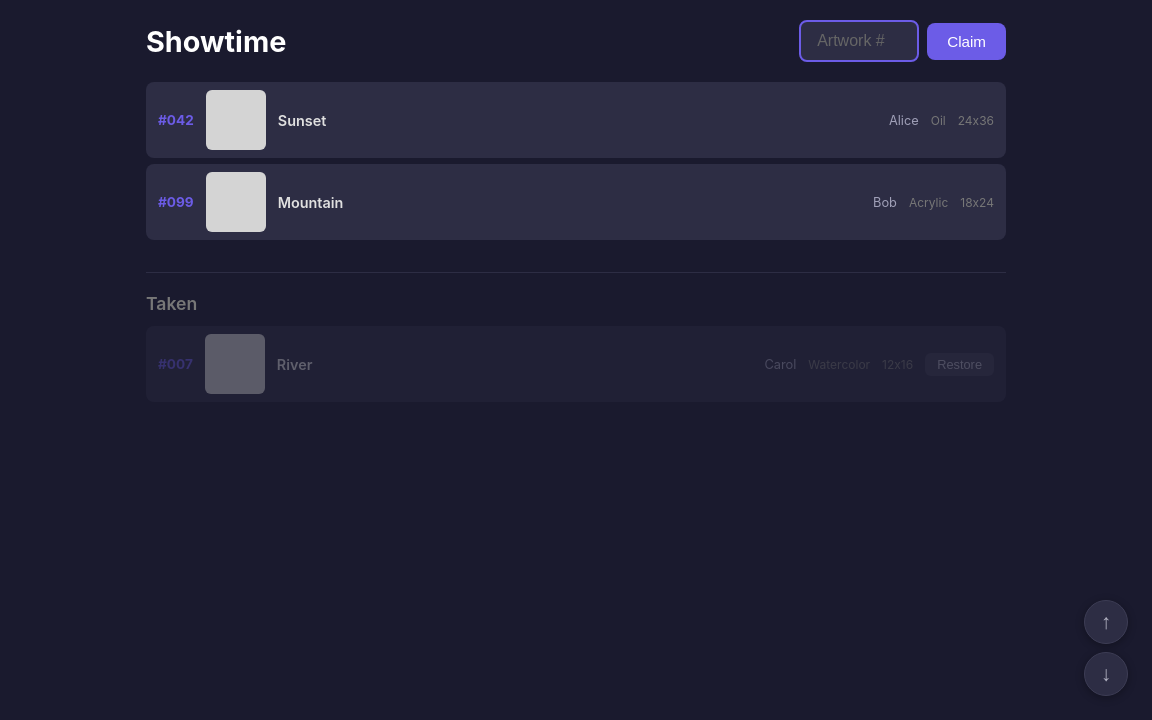
Test: ShowtimePage › shows error for non-existent artwork number
The width and height of the screenshot is (1152, 720).
Type "999" into the field with placeholder "Artwork #" at {"x": 859, "y": 41}, box x1=799 y1=20 x2=919 y2=62
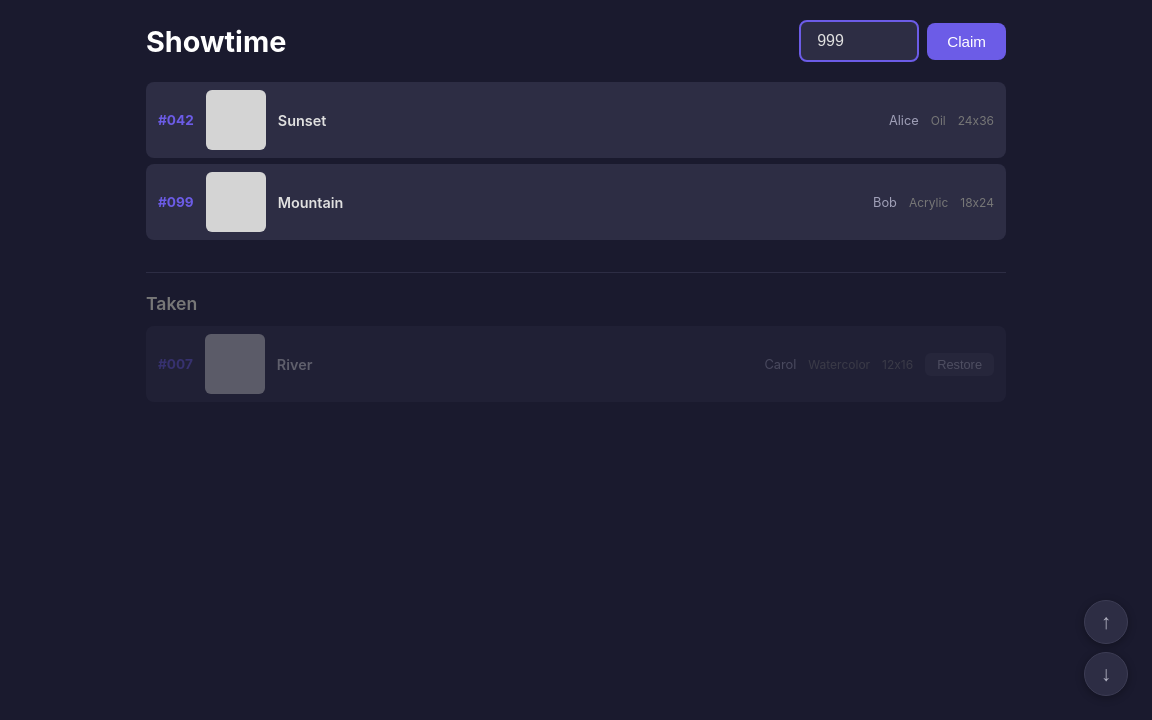
Click the button "Claim" at {"x": 967, "y": 41}, box x1=927 y1=22 x2=1006 y2=60
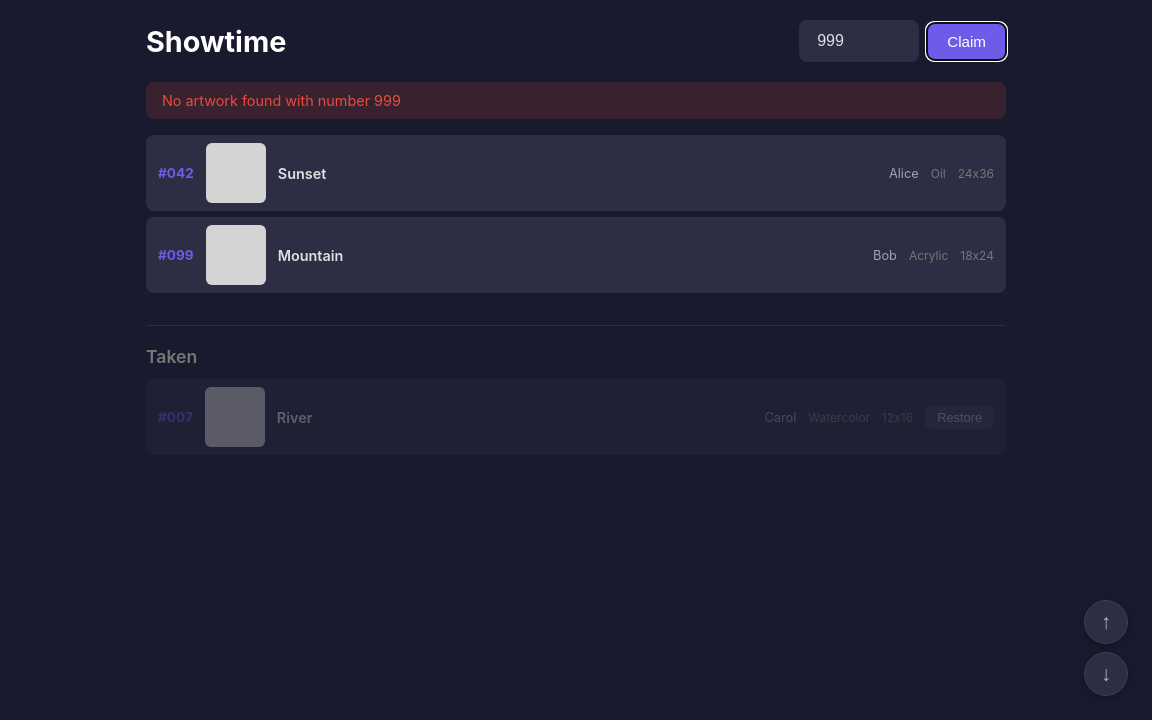
Now the text "No artwork found with number 999" is shown, box x1=146 y1=82 x2=1006 y2=119
